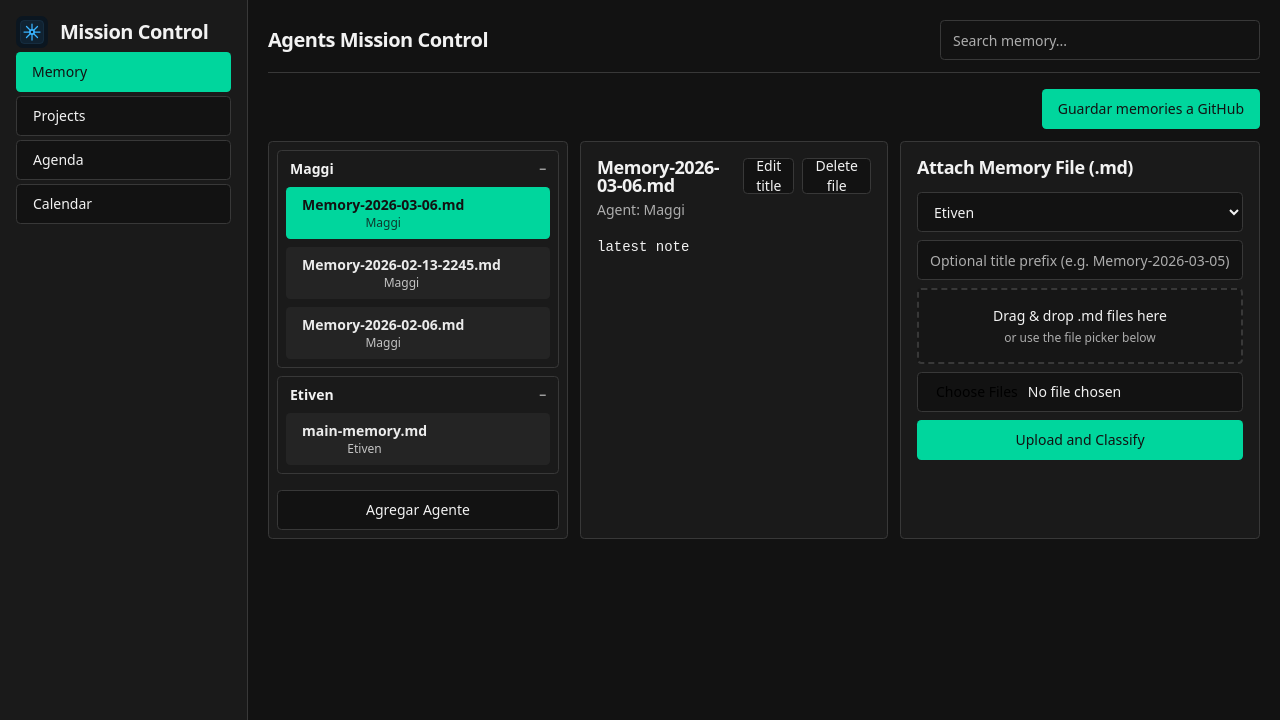
Test: App › opens add-agent modal and validates duplicate names
Expected: the text "main-memory.md" is shown, [302,421,427,441]
Step 1. Click the button "Agregar Agente" → [418, 510], box [277,490,559,530]
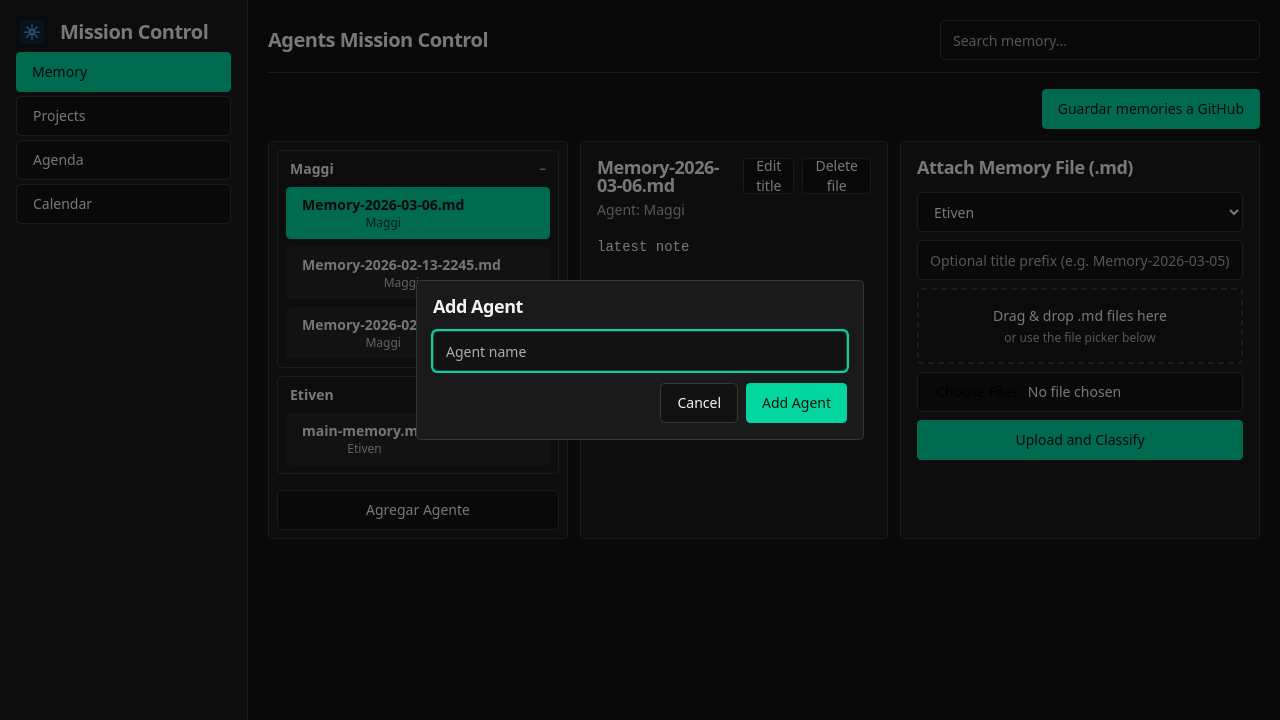
Now the heading "Add Agent" is shown, box [433,294,523,318]
Step 2. Type "Etiven" into the field with placeholder "Agent name" → [640, 351], box [433,331,847,371]
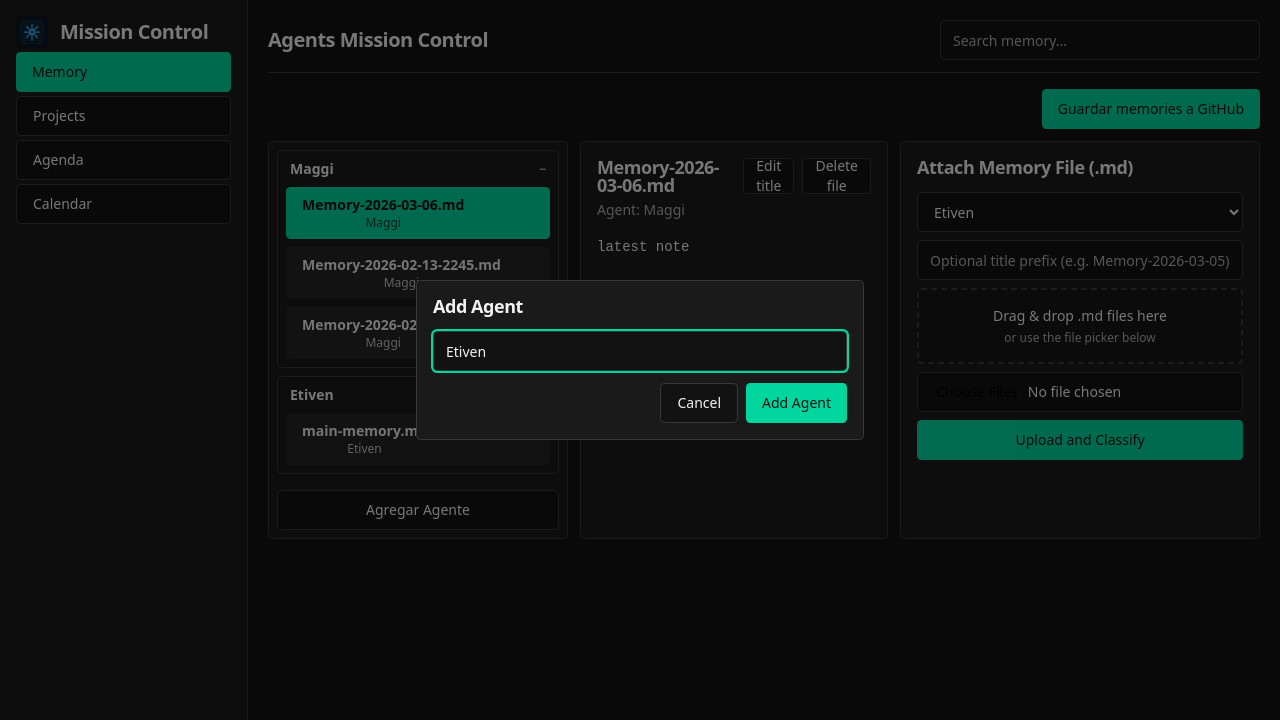
Step 3. Click the button "Add Agent" → [796, 403], box [746,383,847,423]
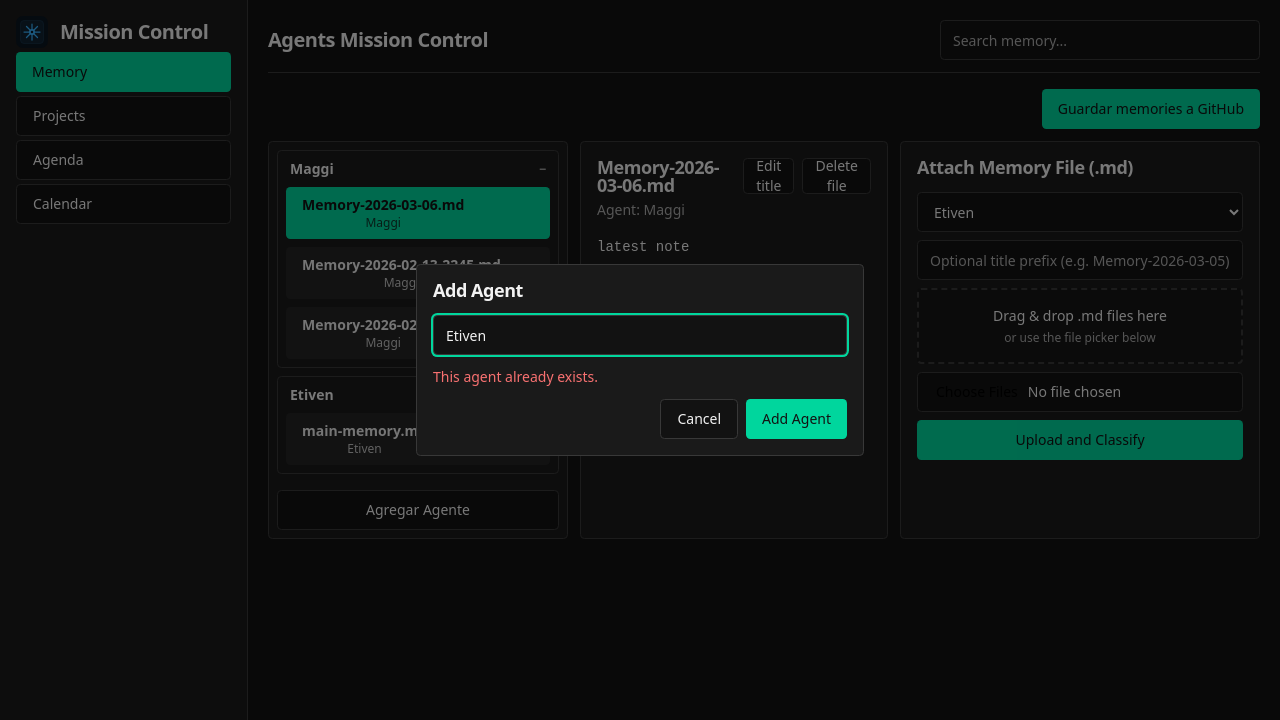
Now the text "This agent already exists." is shown, box [433,367,598,386]
